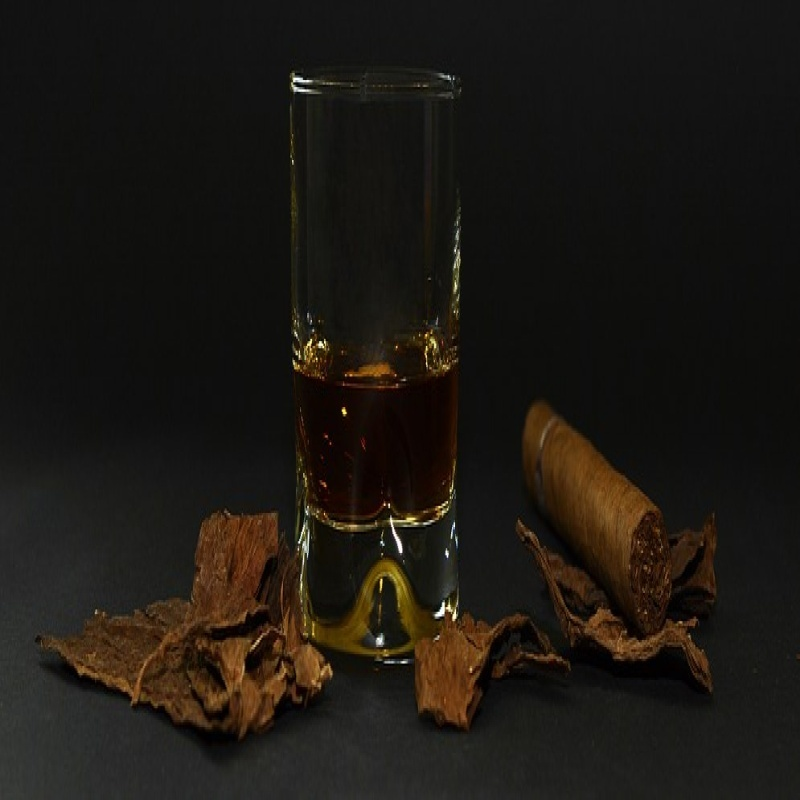whiskey: (280, 52, 475, 652)
